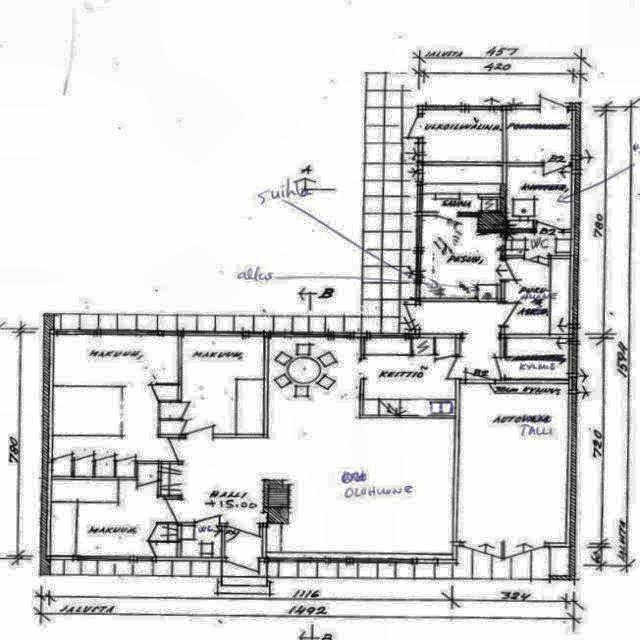room: (457, 381, 569, 543), (52, 335, 179, 477), (161, 336, 264, 434), (51, 480, 178, 557), (364, 338, 455, 415), (421, 217, 501, 298), (505, 259, 569, 334), (423, 110, 502, 161), (507, 167, 571, 229), (423, 166, 502, 212), (506, 110, 571, 162), (506, 339, 569, 378), (506, 233, 570, 255), (182, 526, 221, 557), (225, 527, 262, 558), (137, 463, 158, 476)
